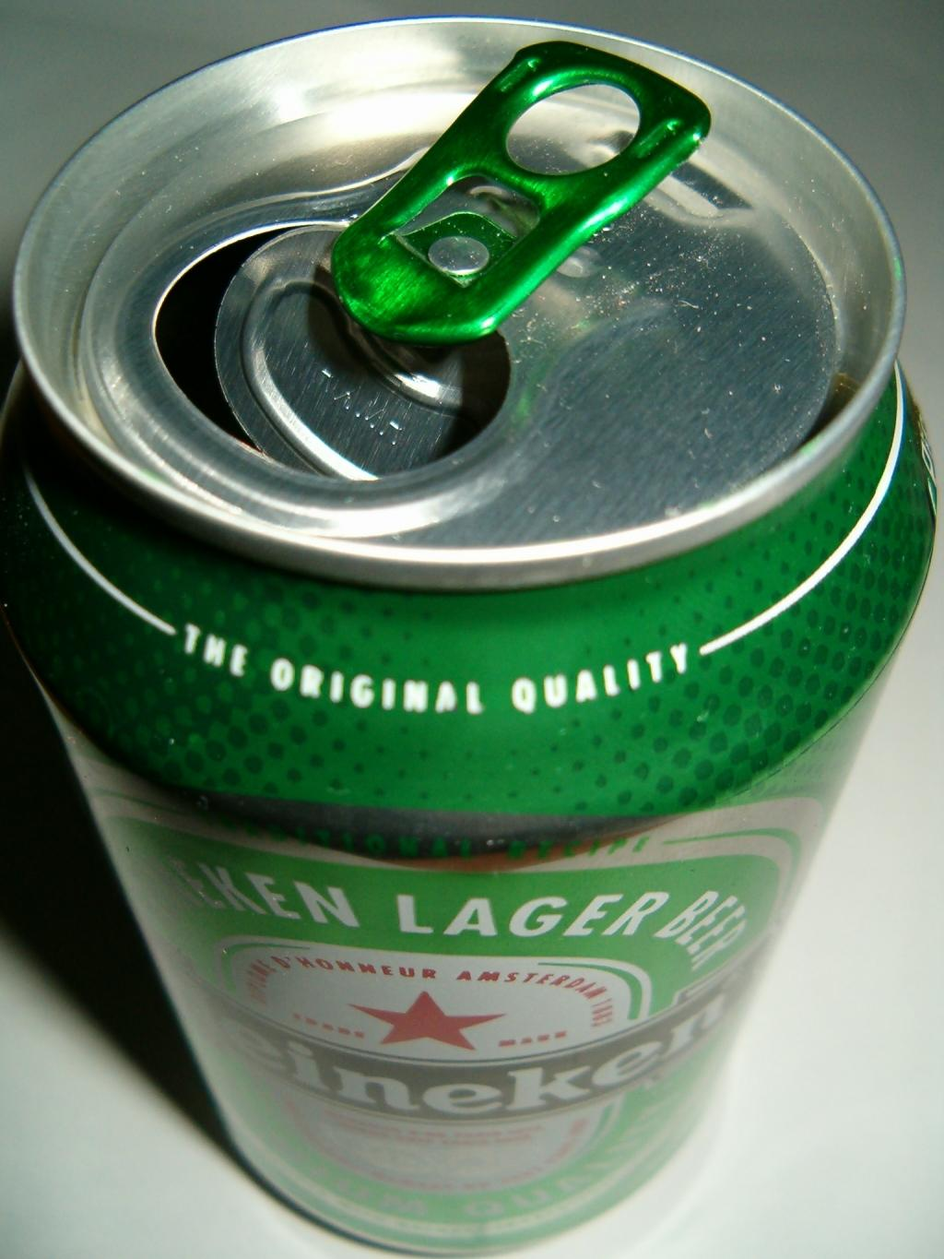metal: (2, 18, 936, 1253)
